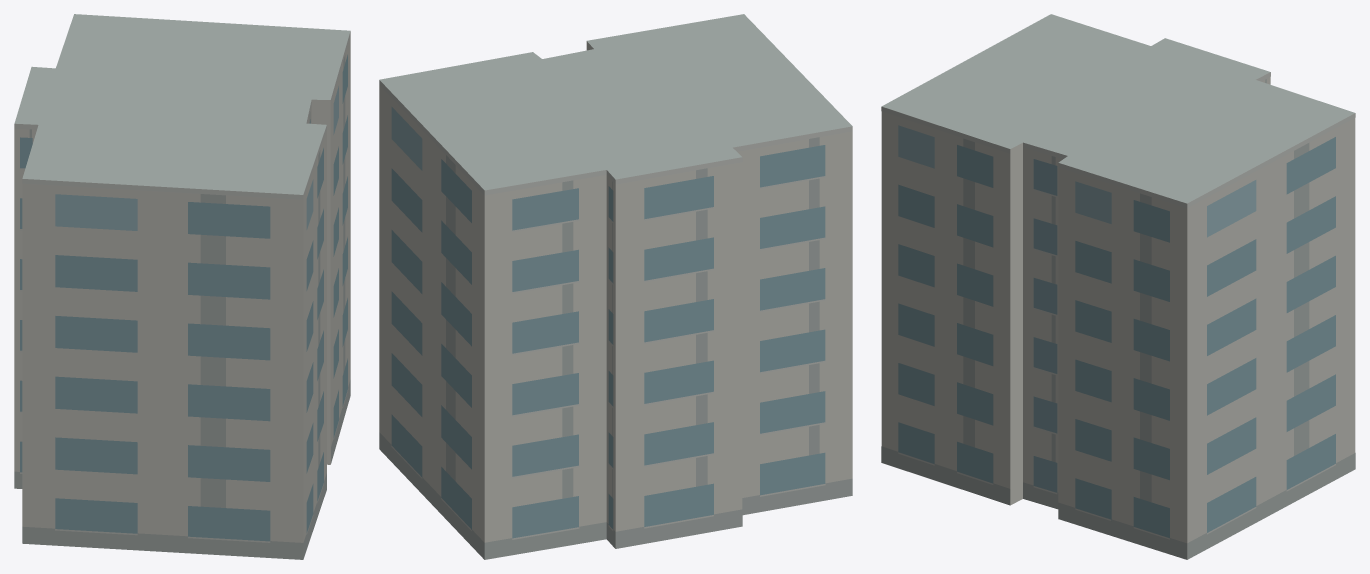
The model's file is survey-upis-32933649.glb.
3 renders of one model, left to right at view 1: azimuth 30°, elevation 25°; view 2: azimuth 150°, elevation 25°; view 3: azimuth 270°, elevation 25°, orthographic. The views are drawn at different scales.
Parts seen in each view (by area): view 1: survey-upis-32933649.tmp; view 2: survey-upis-32933649.tmp; view 3: survey-upis-32933649.tmp.
Part boxes in pixels (x1,y1,x2,y2): survey-upis-32933649.tmp: [14, 14, 350, 559]; survey-upis-32933649.tmp: [379, 14, 852, 559]; survey-upis-32933649.tmp: [881, 14, 1355, 559].
Size of the model in its own units: 20.89 by 18.3 by 22.07.
